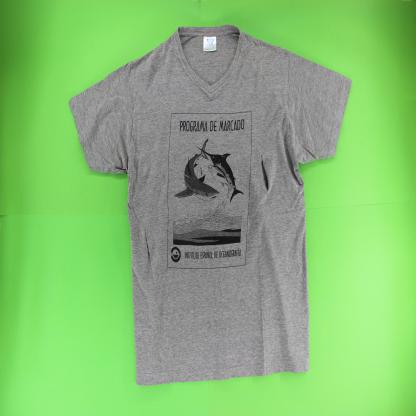hole: (260, 151, 270, 194), (144, 225, 153, 270)
